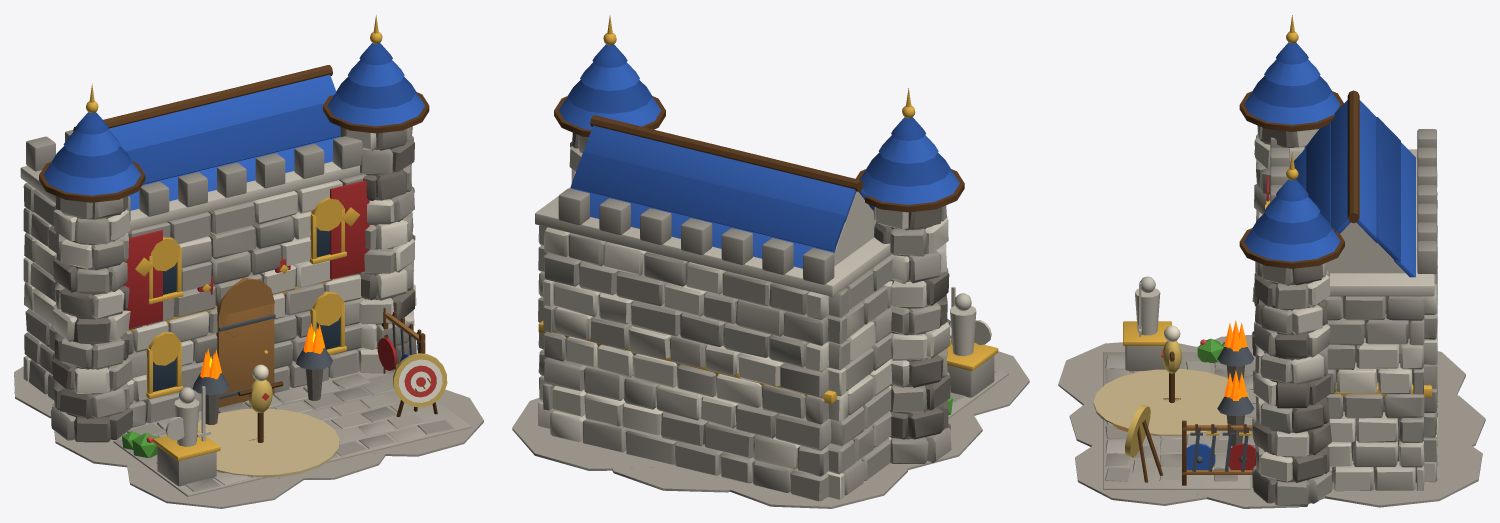
Rendered from koszary_poz19.glb.
3 views of the same model, side by side, from view 1: azimuth 30°, elevation 25°; view 2: azimuth 150°, elevation 25°; view 3: azimuth 270°, elevation 25° (orthographic). The views are drawn at different scales.
Parts seen in each view (by area): view 1: koszary_poz19; view 2: koszary_poz19; view 3: koszary_poz19.
Boxes of the visible parts, x1=… form: koszary_poz19: x1=14, y1=15, x2=483, y2=508; koszary_poz19: x1=512, y1=15, x2=1029, y2=508; koszary_poz19: x1=1058, y1=15, x2=1485, y2=508.
Bounding box in the file's own units: 8.74 × 7.8 × 8.71.
